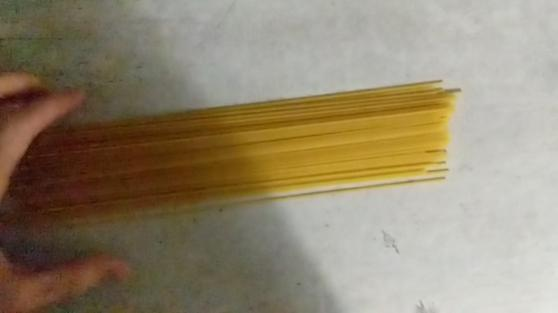spaghetti: (18, 66, 475, 246)
